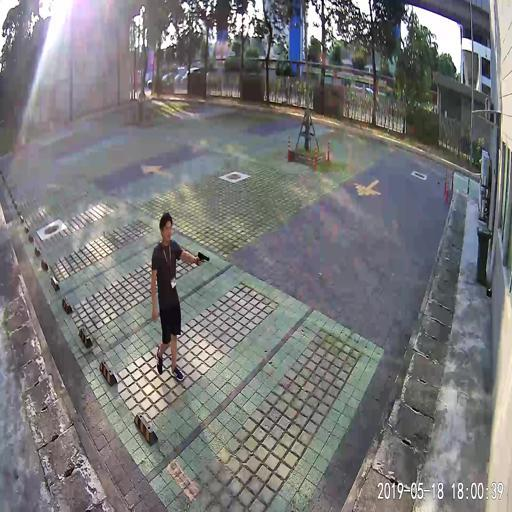Handgun: (195, 249, 209, 266)
